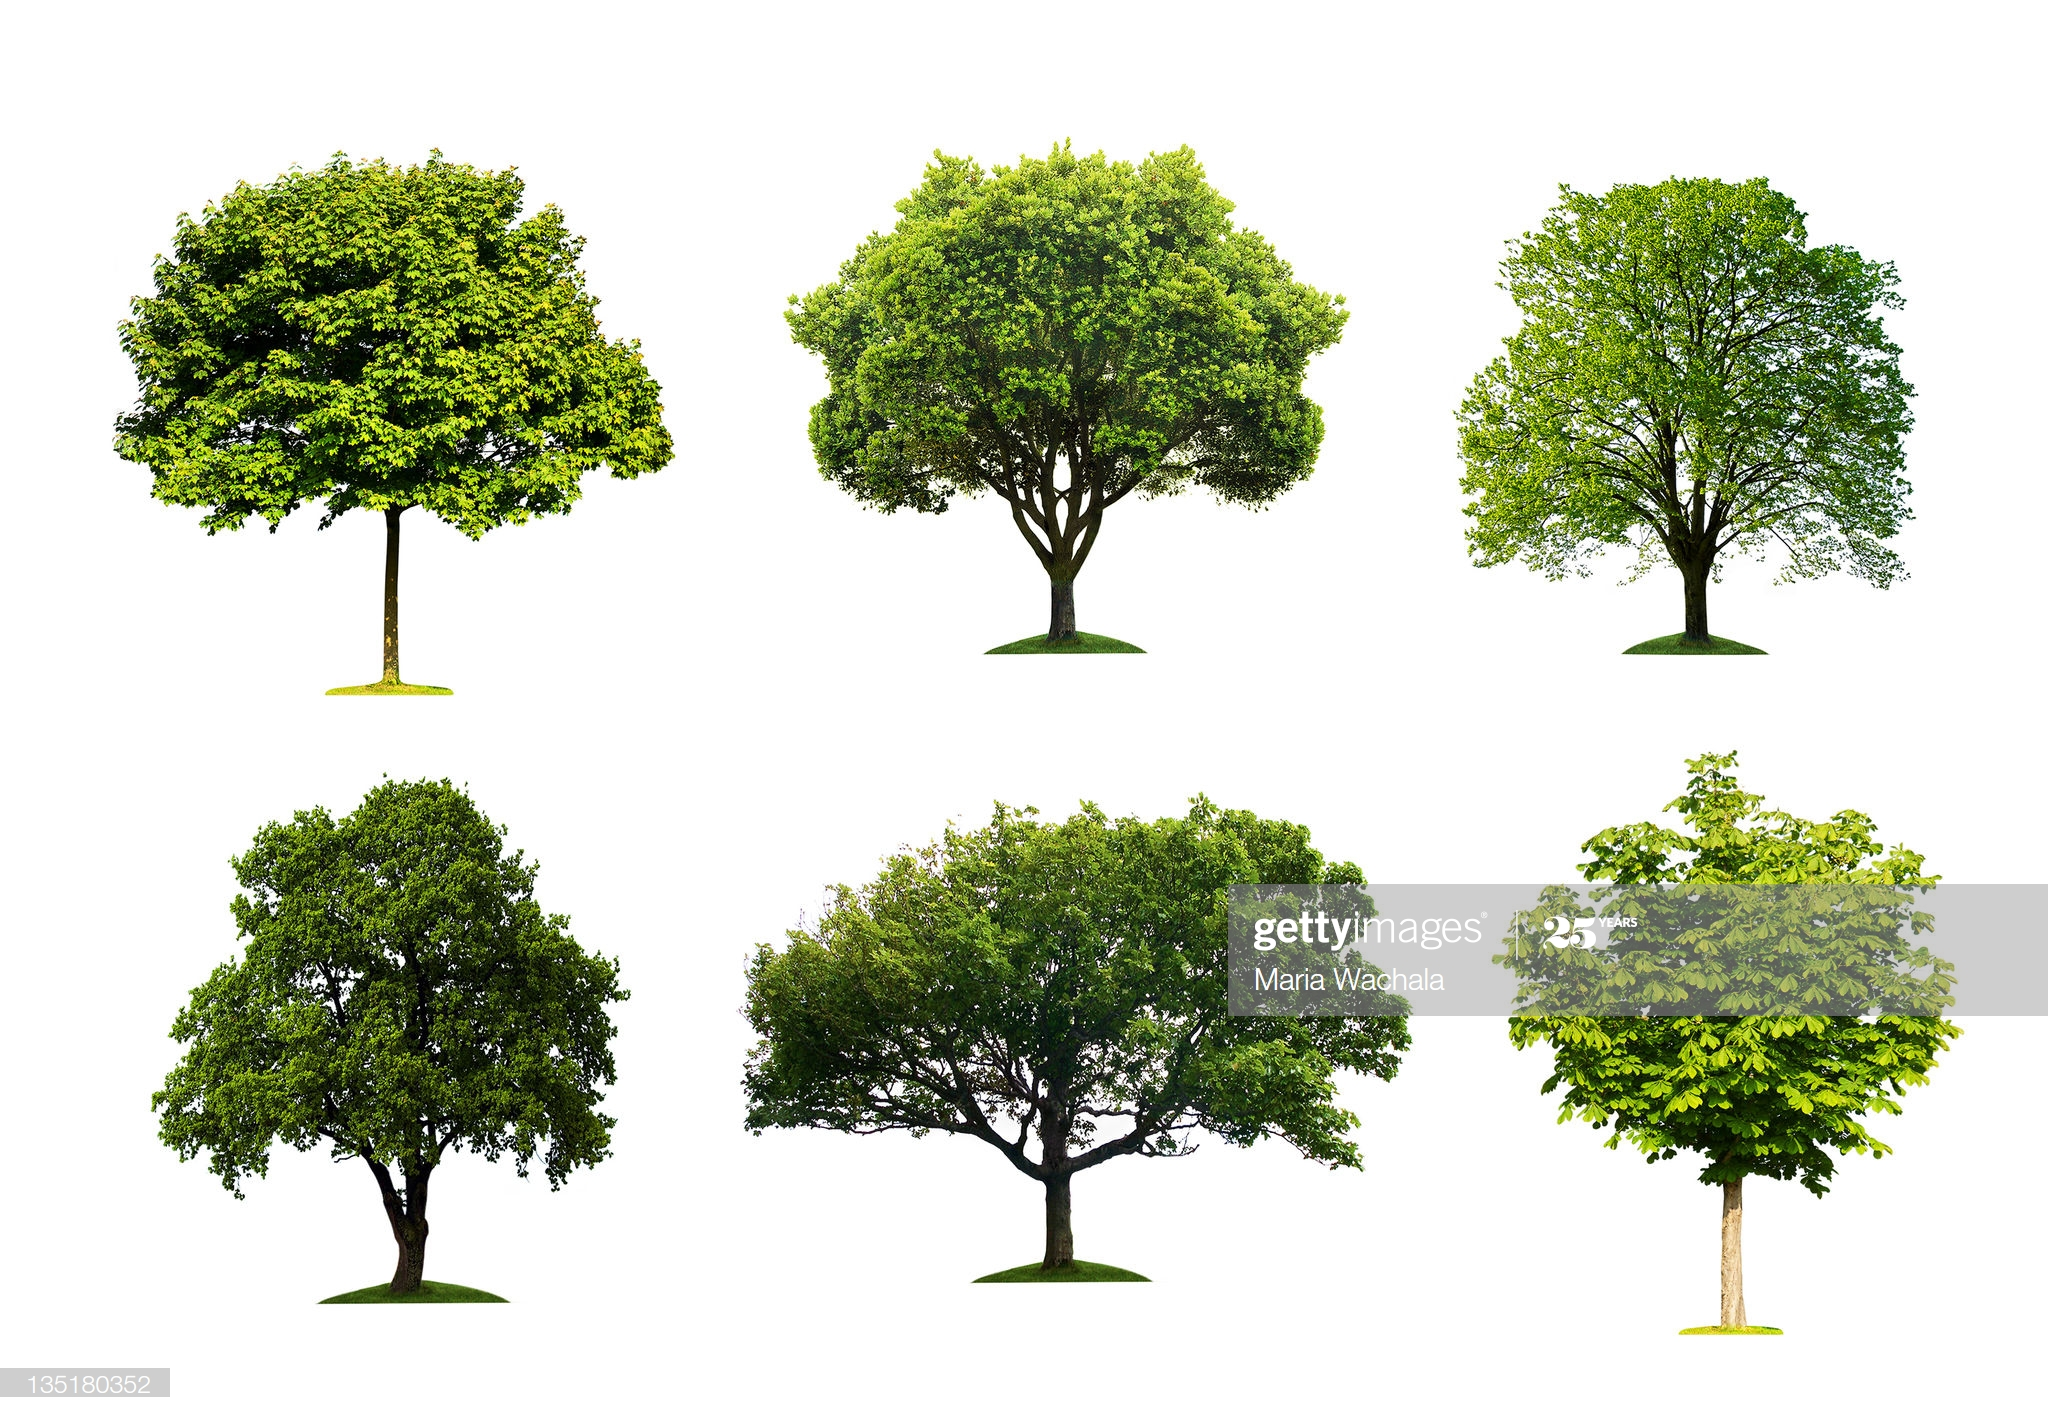tree: (109, 140, 677, 694), (786, 134, 1348, 656), (148, 772, 630, 1301), (1457, 171, 1919, 656)
